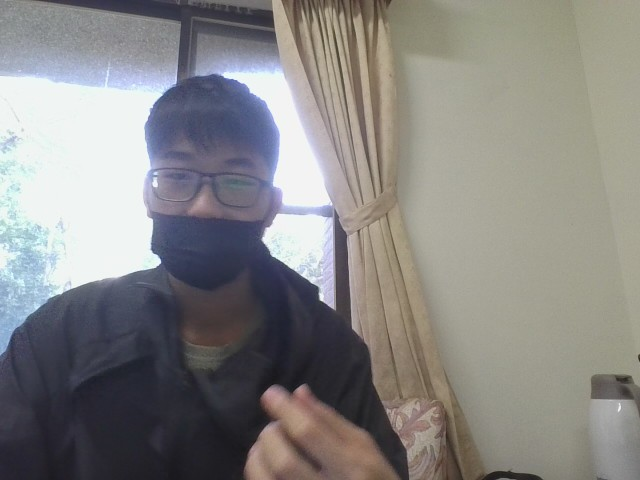No_Gloves: (236, 379, 408, 480)
No_Helmet: (140, 70, 282, 289)
person: (0, 54, 493, 479)
